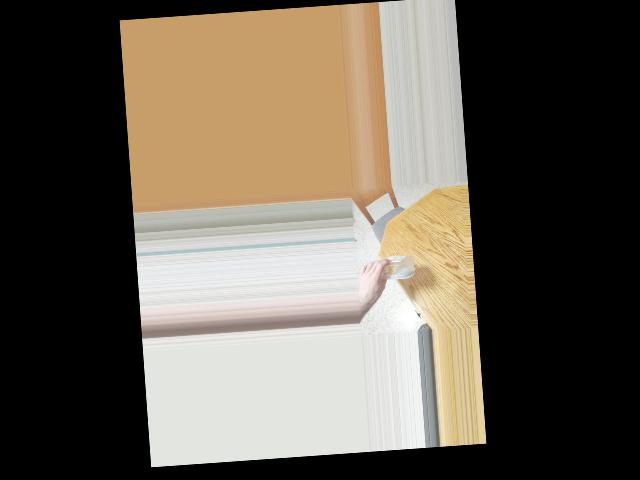cheese: (365, 247, 413, 289)
